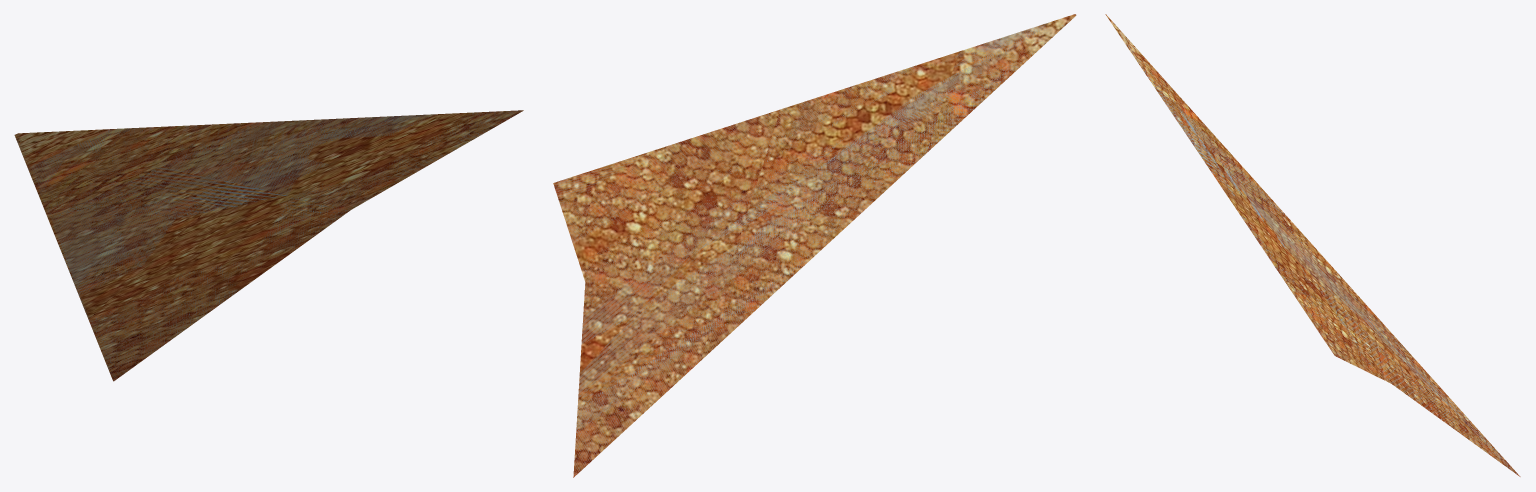
File: 西庸城堡353.dae
3 renders of one model, left to right at view 1: azimuth 30°, elevation 25°; view 2: azimuth 150°, elevation 25°; view 3: azimuth 270°, elevation 25°, orthographic. The views are drawn at different scales.
Visible parts, largest first — view 1: SketchUp; view 2: SketchUp; view 3: SketchUp.
Part boxes in pixels (x1=…): SketchUp: x1=14, y1=110, x2=523, y2=381; SketchUp: x1=553, y1=14, x2=1076, y2=477; SketchUp: x1=1105, y1=14, x2=1520, y2=476.
Bounding box in the file's own units: 228 × 222 × 200.
